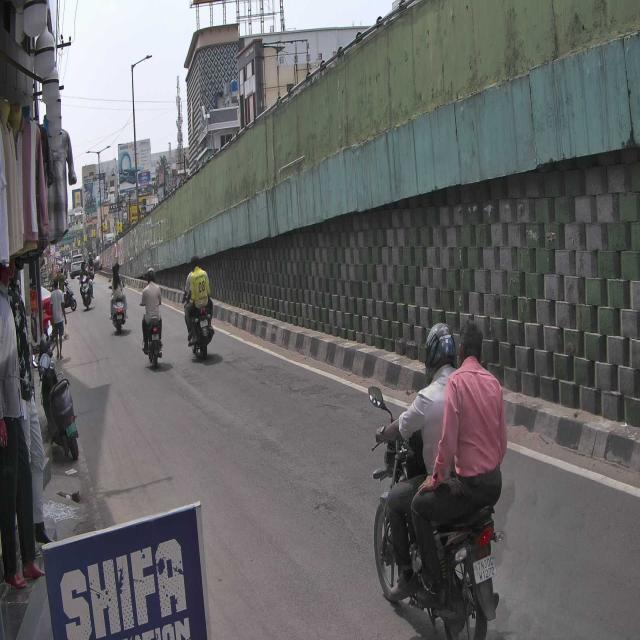double_rider: (366, 315, 510, 640)
